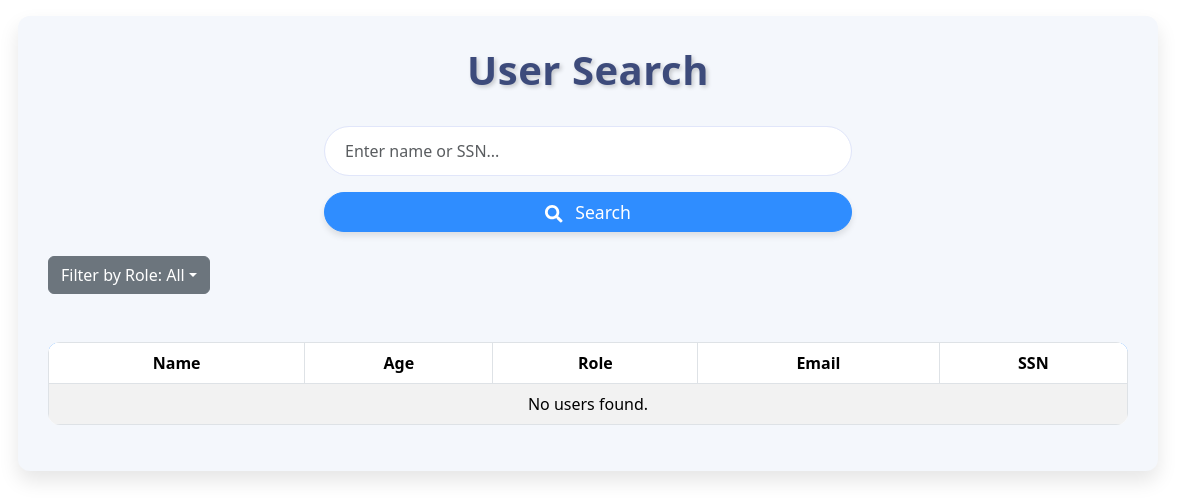
Scenario: App Component › loads and displays user data when search button is clicked
Click the button "Search".
click(588, 212)  # box top-left (324, 192), bottom-right (852, 232)
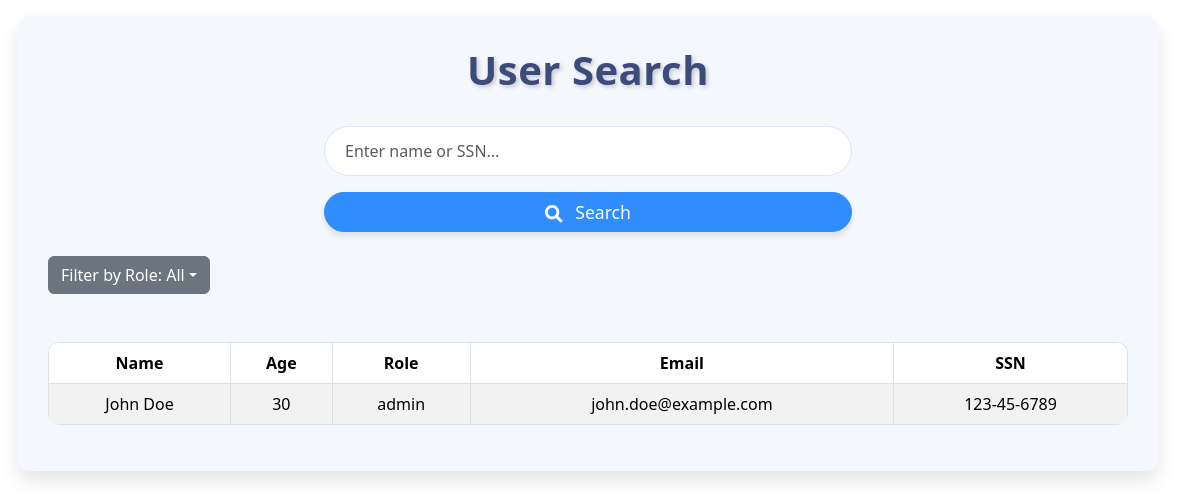
Expected: the text "John Doe" is shown, top-left (48, 384), bottom-right (230, 425)
